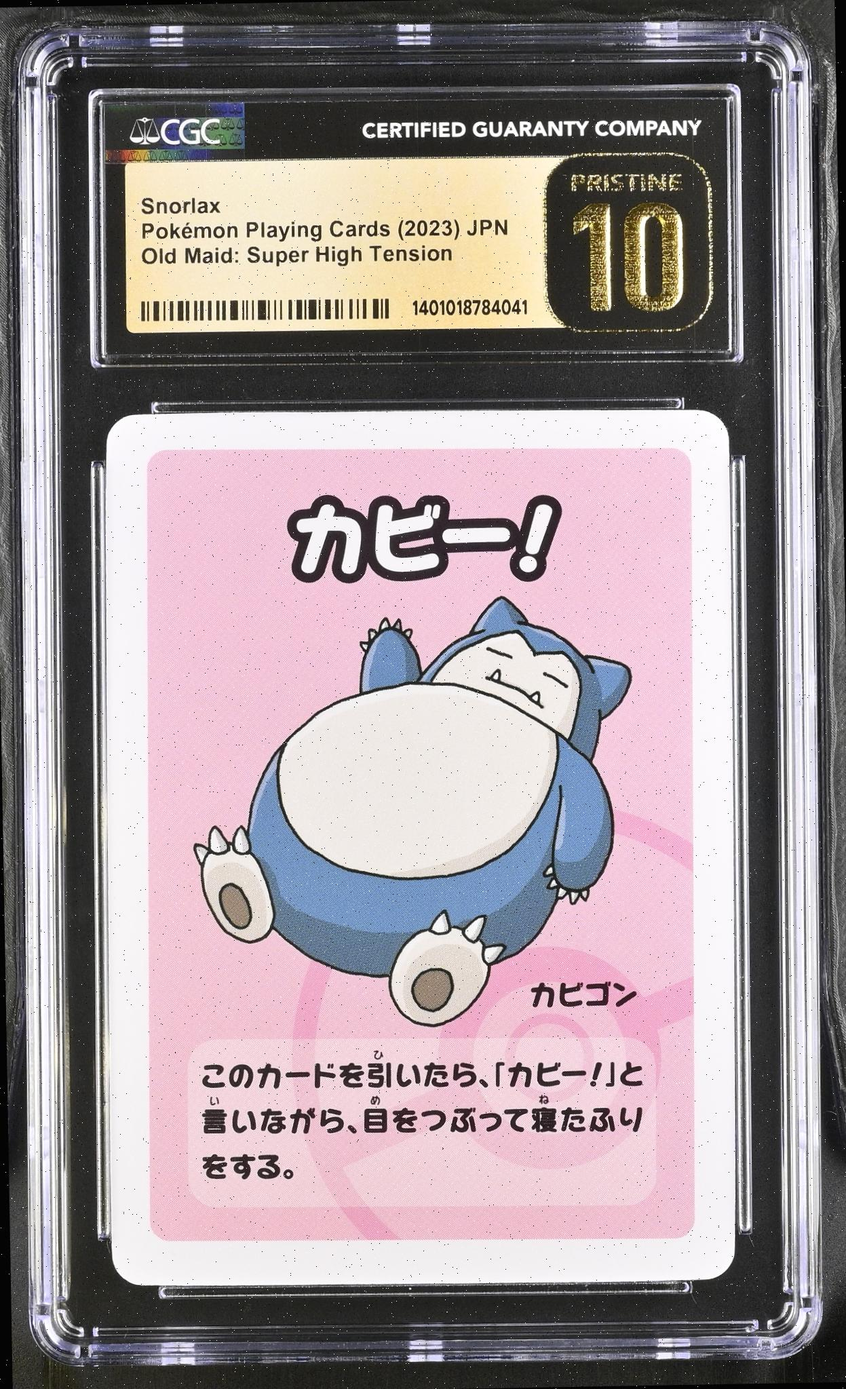card-2UtV: (105, 409, 735, 1286)
